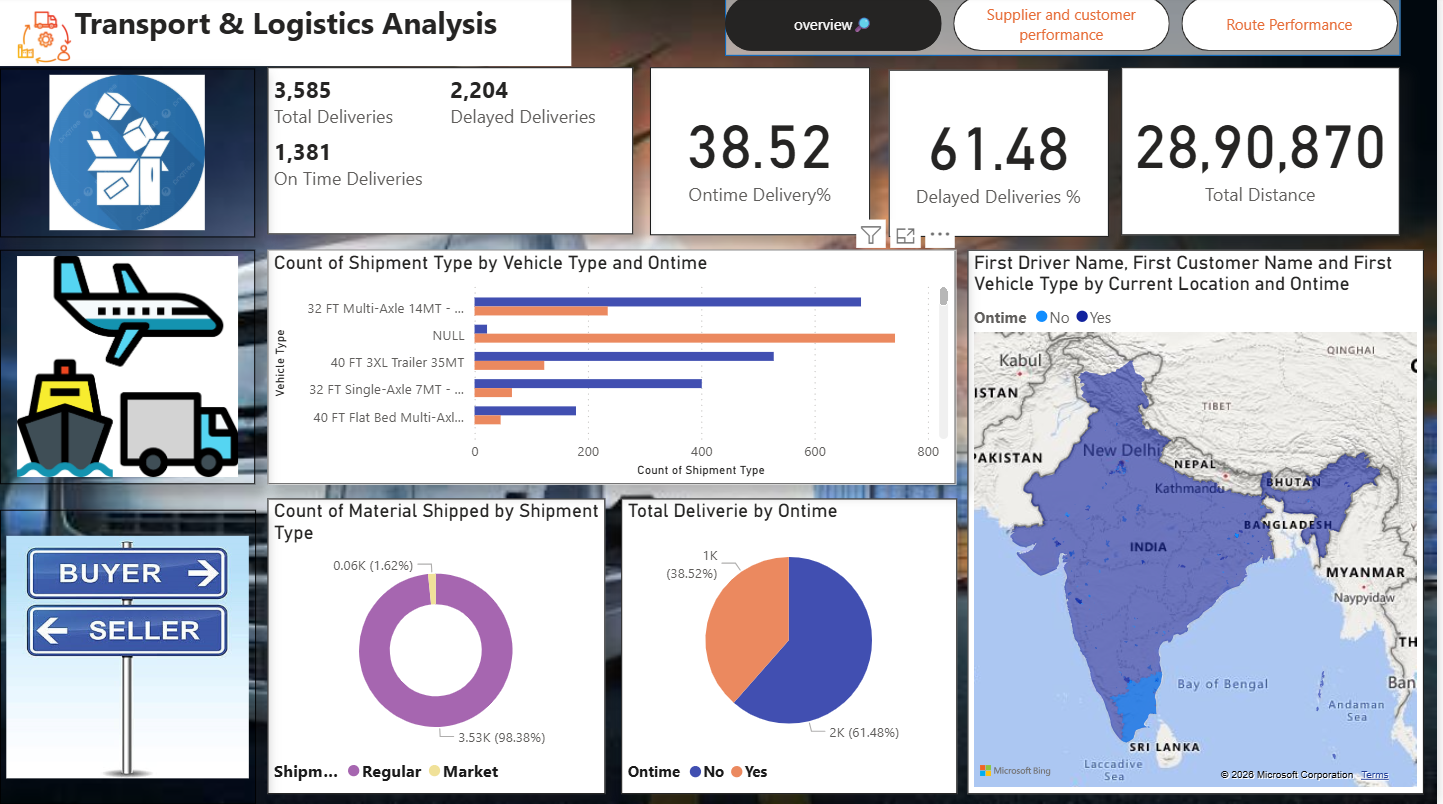

The page's visual inventory and layout, read from the dashboard file:
{"tool":"powerbi","page":{"name":"overview🔎","canvas":[1280,720],"ordinal":0},"visuals":[{"type":"card","fields":{"Values":["Data Dictionary.Delayed Deliveries %"]},"box":[791.5,65.7,195.9,149.2],"z":0},{"type":"card","fields":{"Values":["Data Dictionary.Total Distance"]},"box":[999,63.1,248.4,149.6],"z":1000},{"type":"card","fields":{"Values":["Data Dictionary.Ontime Delivery%"]},"box":[579.1,63.1,196.2,149.6],"z":2000},{"type":"multiRowCard","fields":{"Values":["Data Dictionary.Total Deliveries","Data Dictionary.Delayed Deliveries","Data Dictionary.On Time Deliveries"]},"box":[238.4,64,325.6,148.8],"z":3000},{"type":"actionButton","box":[0,0,100,40],"z":4000},{"type":"donutChart","fields":{"Y":["CountNonNull(Primary Data.Material Shipped)"],"Category":["Primary Data.Shipment Type"]},"box":[238.8,447.3,300.5,263.5],"z":5000},{"type":"pieChart","fields":{"Category":["Primary Data.Ontime"],"Y":["Data Dictionary.Total Deliverie"]},"box":[553,447.3,299.1,263.5],"z":6000},{"type":"filledMap","fields":{"Category":["Primary Data.Current Location"],"Series":["Primary Data.Ontime"]},"box":[861.2,226.2,406.2,485],"z":7000},{"type":"clusteredBarChart","fields":{"Y":["CountNonNull(Primary Data.Shipment Type)"],"Category":["Primary Data.Vehicle Type"],"Series":["Primary Data.Ontime"]},"box":[238.8,226.2,612.5,208.8],"z":8000},{"type":"textbox","box":[0,0,508.8,62.5],"z":9000},{"type":"image","box":[0,7.8,79,59],"z":10000},{"type":"image","box":[0,65,227.5,150],"z":11000},{"type":"shape","box":[645.5,0,601.6,53.4],"z":11250},{"type":"pageNavigator","box":[645.5,0,601.6,49.8],"z":11500},{"type":"image","box":[0,226.2,227.5,208.8],"z":12000},{"type":"image","box":[0,457,227.9,262.8],"z":13000}]}

Visuals, with their boxes in screenshot pixels (x1, y1, x2, y2), scaled from the page's 1280x720 canvas onto the 1443x804 screenshot:
card - Data Dictionary.Delayed Deliveries %: 892 73 1113 240
card - Data Dictionary.Total Distance: 1126 70 1406 238
card - Data Dictionary.Ontime Delivery%: 653 70 874 238
multiRowCard - Data Dictionary.Total Deliveries x Data Dictionary.Delayed Deliveries: 269 71 636 238
actionButton: 0 0 113 45
donutChart - CountNonNull(Primary Data.Material Shipped) x Primary Data.Shipment Type: 269 499 608 794
pieChart - Primary Data.Ontime x Data Dictionary.Total Deliverie: 623 499 961 794
filledMap - Primary Data.Current Location x Primary Data.Ontime: 971 253 1429 794
clusteredBarChart - CountNonNull(Primary Data.Shipment Type) x Primary Data.Vehicle Type: 269 253 960 486
textbox: 0 0 574 70
image: 0 9 89 75
image: 0 73 256 240
shape: 728 0 1406 60
pageNavigator: 728 0 1406 56
image: 0 253 256 486
image: 0 510 257 803
